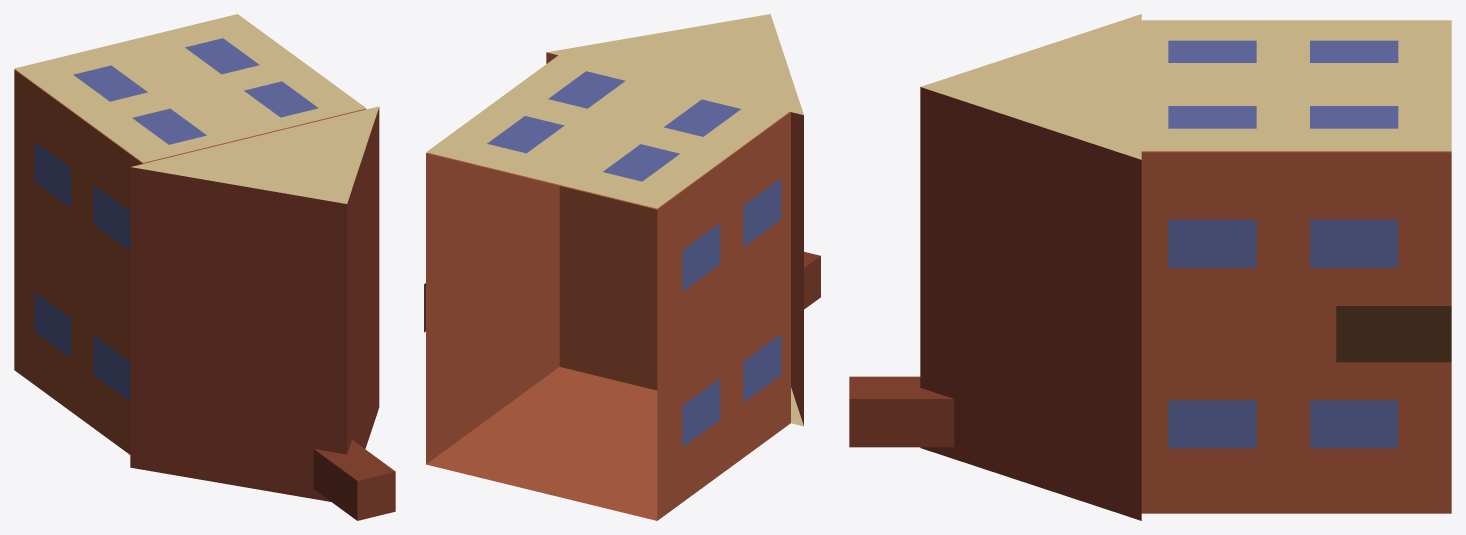
The model's file is construction_2.glb.
3 renders of one model, left to right at view 1: azimuth 30°, elevation 25°; view 2: azimuth 150°, elevation 25°; view 3: azimuth 270°, elevation 25°, orthographic. The views are drawn at different scales.
Parts seen in each view (by area): view 1: c2; view 2: c2; view 3: c2.
Boxes of the visible parts, x1,y1,x2,y2 form: c2: (14, 14, 395, 520); c2: (424, 14, 820, 520); c2: (849, 14, 1451, 520).
Bounding box in the file's own units: 7.8 × 9.12 × 13.6.
